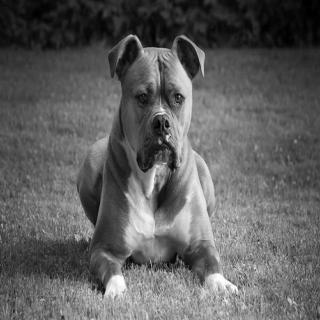dog: (110, 28, 203, 182)
nose: (148, 112, 176, 137)
